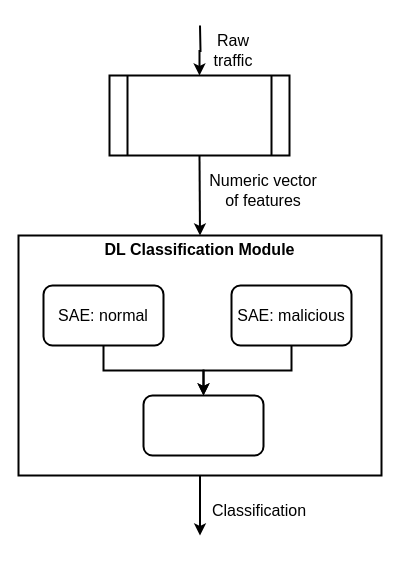
This 399x561 diagram has some shape labels left out. The shapes that lost their labels are listed below. From the top down, each one's centre as x and y in pixels, then its label:
(x=199, y=115): Feature Engineering module
(x=203, y=425): 1D CNN
